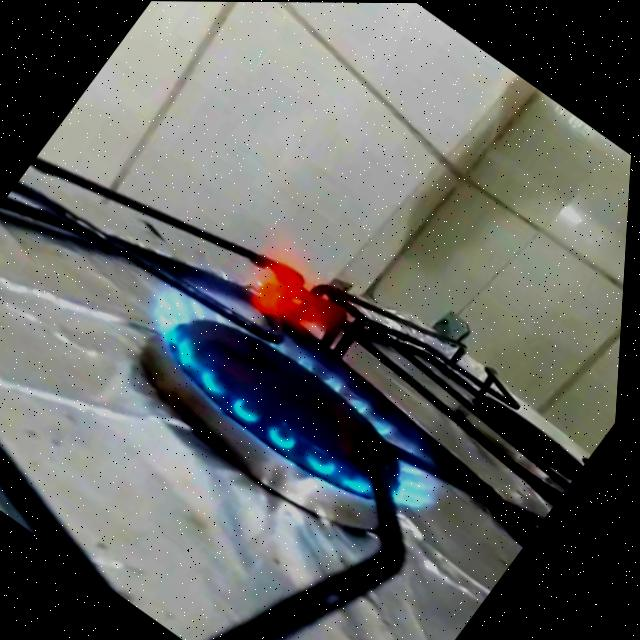Fire: (110, 185, 538, 545)
